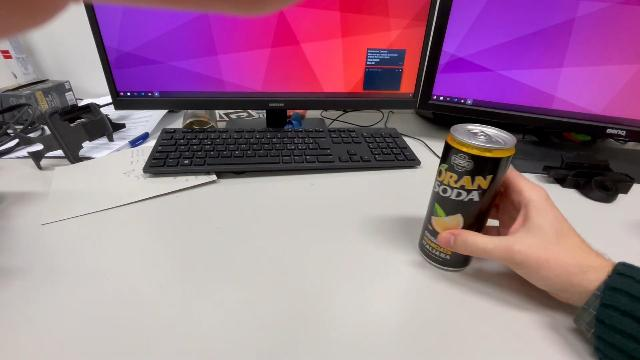OranSoda: (413, 120, 521, 276)
